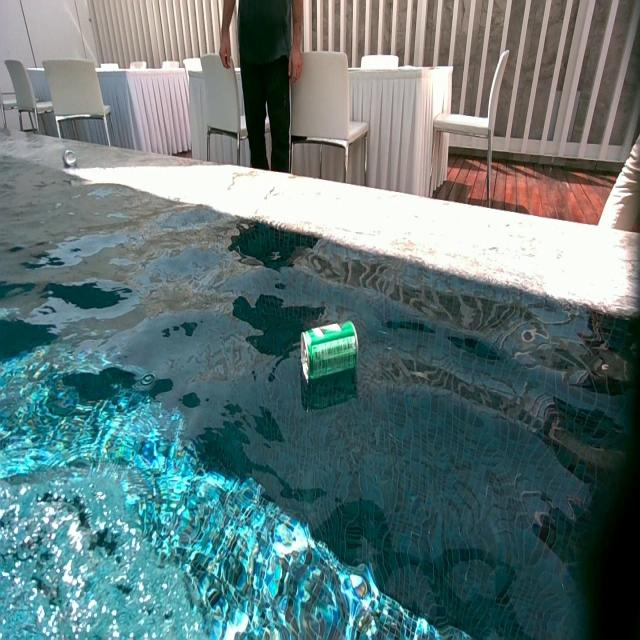Cans: (304, 322, 359, 388), (63, 148, 76, 166)
